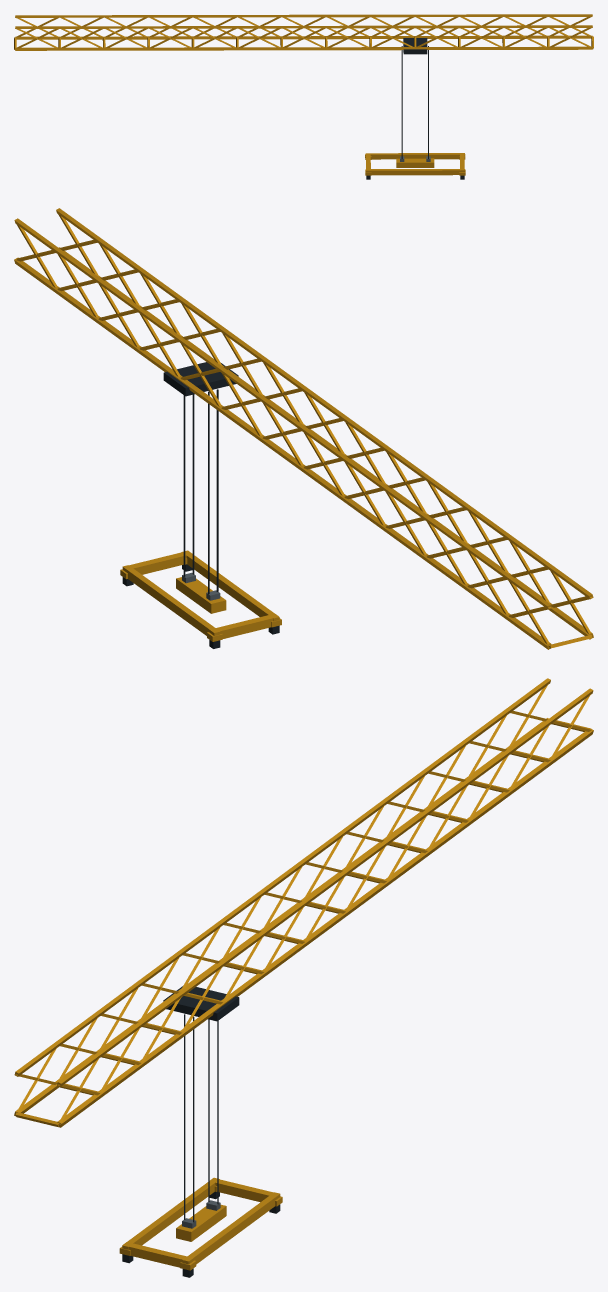
File: SeaportSystem-02-ShipToShoreGantryCrane-03-CraneTip-1-03.glb
3 renders of one model, top to bottom at view 1: azimuth 30°, elevation 25°; view 2: azimuth 150°, elevation 25°; view 3: azimuth 270°, elevation 25°, orthographic. The views are drawn at different scales.
Parts seen in each view (by area): view 1: SeaportSystem-02-ShipToShoreGantryCrane-03-CraneTip-1-03; view 2: SeaportSystem-02-ShipToShoreGantryCrane-03-CraneTip-1-03; view 3: SeaportSystem-02-ShipToShoreGantryCrane-03-CraneTip-1-03.
Part boxes in pixels (x1,y1,x2,y2): SeaportSystem-02-ShipToShoreGantryCrane-03-CraneTip-1-03: (14, 14, 593, 179); SeaportSystem-02-ShipToShoreGantryCrane-03-CraneTip-1-03: (14, 208, 593, 649); SeaportSystem-02-ShipToShoreGantryCrane-03-CraneTip-1-03: (14, 678, 593, 1277).
Bounding box in the file's own units: 64.92 × 20.9 × 39.23.
